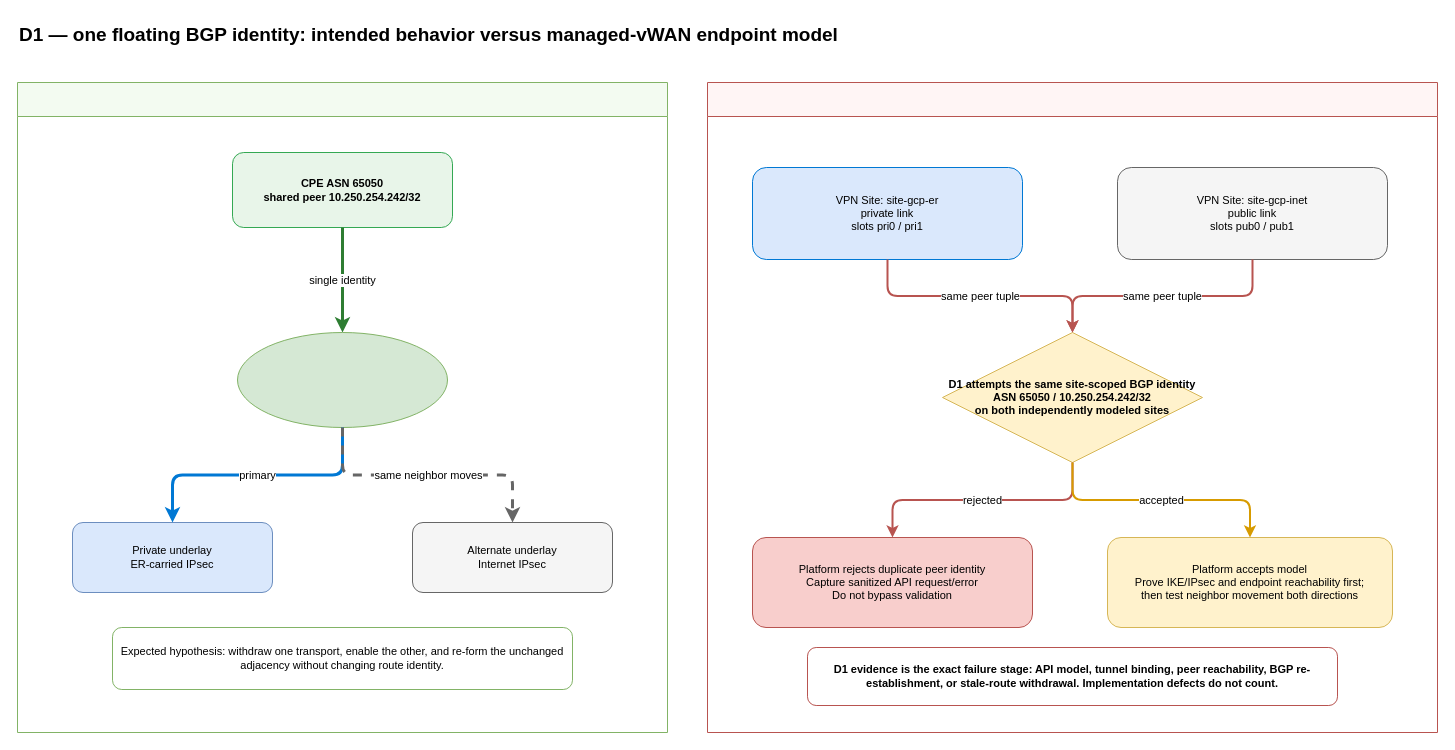
Image size: 1455x750. Some labels were removed from this diagram. Each missing label, with the box of its shape:
Intended CPE behavior: (16, 82, 668, 732)
Managed vWAN endpoint reality to test: (706, 82, 1438, 732)
One logical BGP neighbor keeps the same ASN + peer identity: (236, 332, 448, 428)
